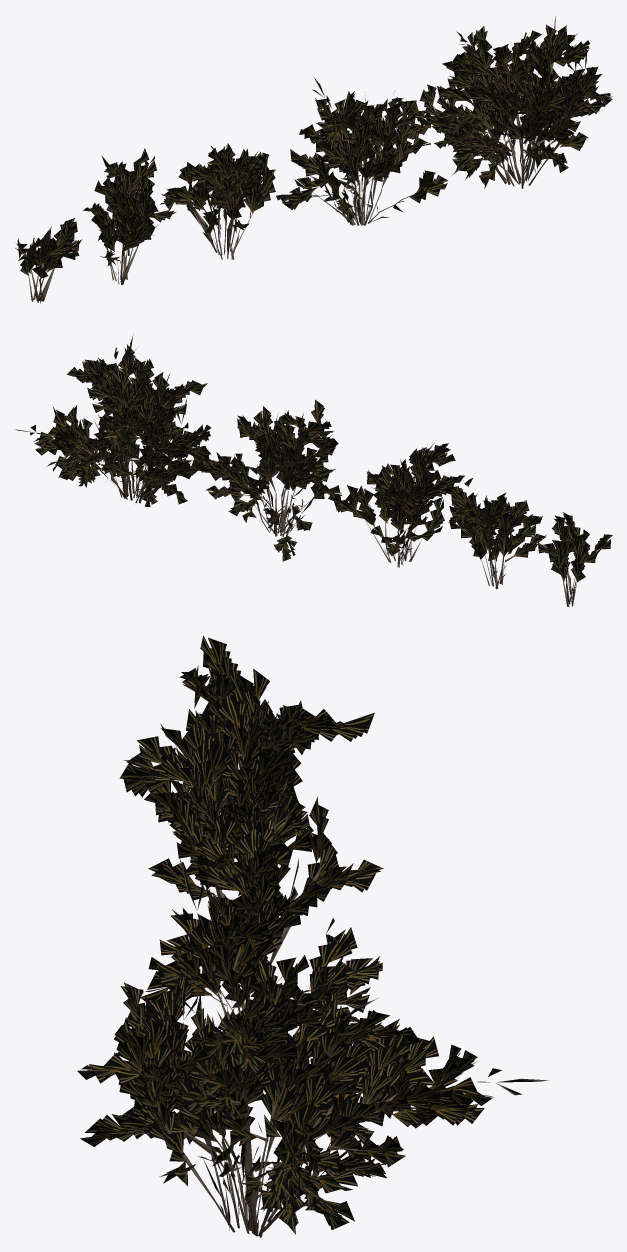
File: shrub_b.glb
The picture shows the model from 3 angles, top to bottom: view 1: azimuth 30°, elevation 25°; view 2: azimuth 150°, elevation 25°; view 3: azimuth 270°, elevation 25°; orthographic projection. The views are drawn at different scales.
Visible parts, largest first — view 1: shrub_b; view 2: shrub_b; view 3: shrub_b.
Part boxes in pixels (left/top/right/bottom): shrub_b: left=15, top=16, right=612, bottom=303; shrub_b: left=15, top=335, right=612, bottom=606; shrub_b: left=77, top=636, right=548, bottom=1237.
Size of the model in its own units: 2.27 by 0.5439 by 0.8433.
3 materials, 3 textured.
